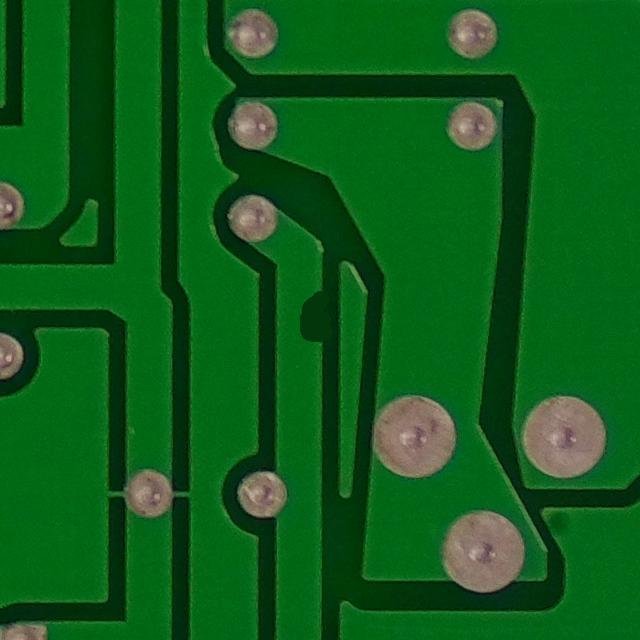mouse_bite: (290, 278, 350, 362)
